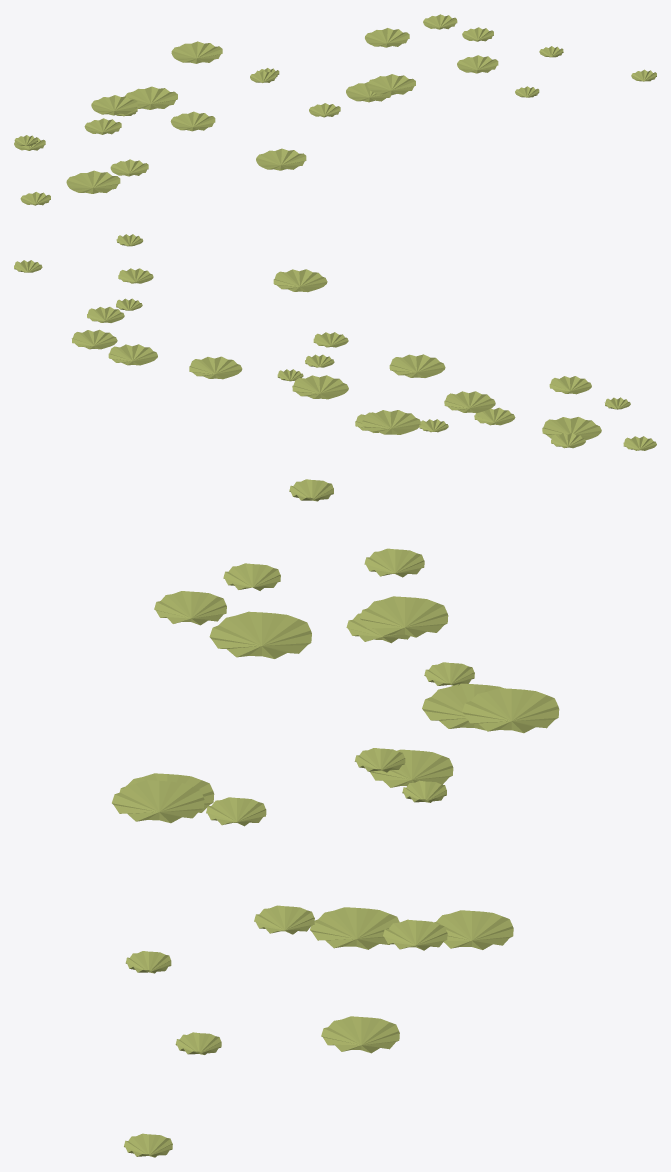
The model's file is xiyuan-vegetation-03-near.glb.
3 renders of one model, top to bottom at view 1: azimuth 30°, elevation 25°; view 2: azimuth 150°, elevation 25°; view 3: azimuth 270°, elevation 25°, orthographic. The views are drawn at different scales.
Visible parts, largest first — view 1: scalloped lotus leaves.002; view 2: scalloped lotus leaves.002; view 3: scalloped lotus leaves.002.
Part boxes in pixels (x1,y1,x2,y2): scalloped lotus leaves.002: [14, 14, 656, 205]; scalloped lotus leaves.002: [14, 234, 656, 450]; scalloped lotus leaves.002: [112, 479, 559, 1157].
Size of the model in its own units: 11.79 by 1.05 by 3.76.
